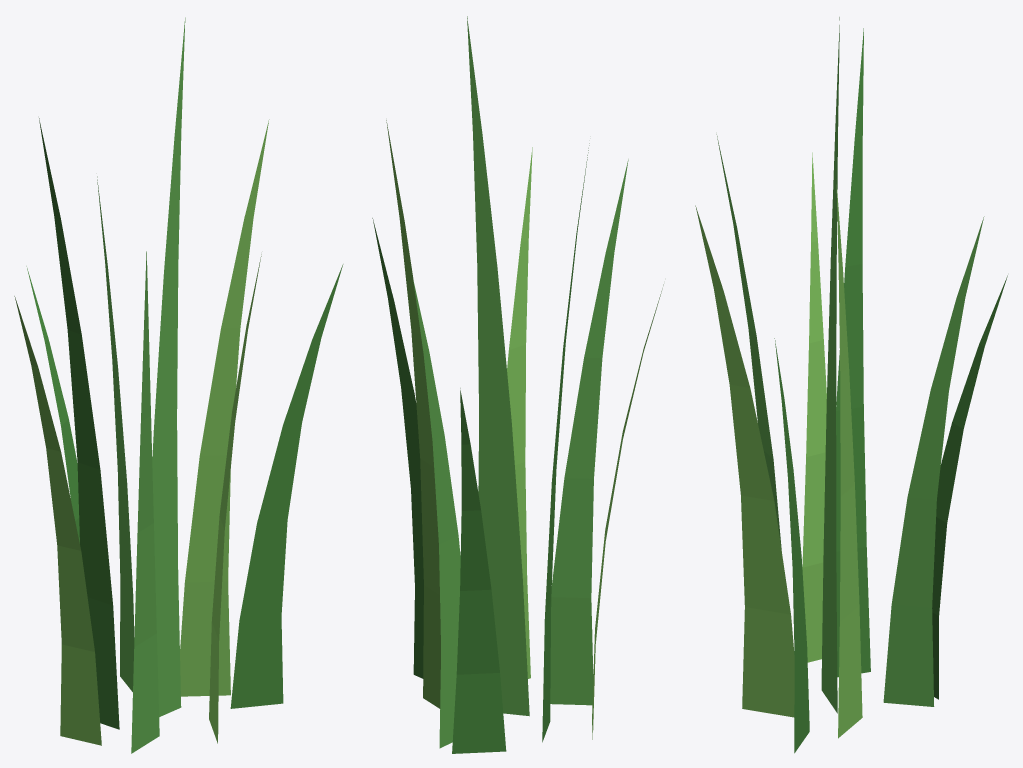
Rendered from LowPoly_SwayingGrass.gltf.
The picture shows the model from 3 angles, left to right: view 1: azimuth 30°, elevation 25°; view 2: azimuth 150°, elevation 25°; view 3: azimuth 270°, elevation 25°; orthographic projection.
Visible parts, largest first — view 1: LowPoly_SwayingGrass; view 2: LowPoly_SwayingGrass; view 3: LowPoly_SwayingGrass.
Boxes of the visible parts, <box> form: LowPoly_SwayingGrass: <box>14,17,343,753</box>; LowPoly_SwayingGrass: <box>372,16,663,753</box>; LowPoly_SwayingGrass: <box>695,17,1007,753</box>.
Bounding box in the file's own units: 1.06 × 2.25 × 0.91.
